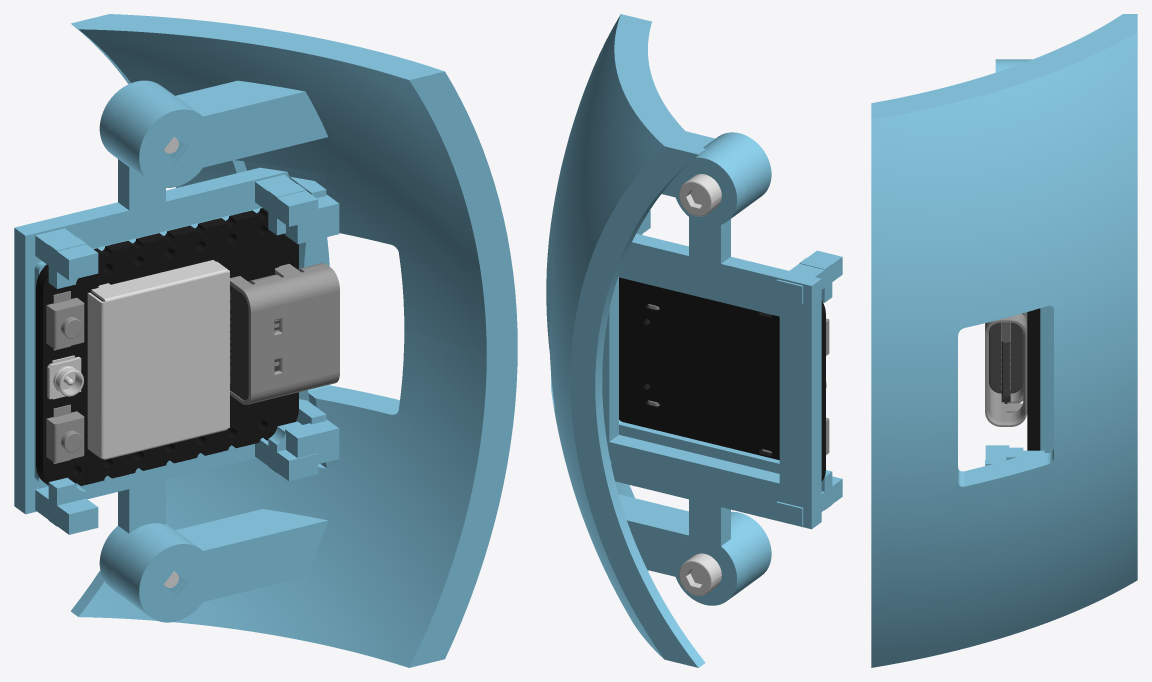
The model's file is charging_fit.glb.
3 views of the same model, side by side, from view 1: azimuth 30°, elevation 25°; view 2: azimuth 150°, elevation 25°; view 3: azimuth 270°, elevation 25° (orthographic). The views are drawn at different scales.
Visible parts, largest first — view 1: o1.3, o1.4, o1.1.4, o1.1.6, o1.1.1.1.19, o1.1.1.1.23, o1.1.5, o1.1.3, o1.1.2.1; view 2: o1.3, o1.4, o1.1.6, o1.2.1.1, o1.2.2.1; view 3: o1.3, o1.4, o1.1.1.1.19, o1.1.6, o1.1.1.1.23, o1.1.1.1.11.
Boxes of the visible parts, bbox=[...] form: o1.3: bbox=[70, 14, 517, 667]; o1.4: bbox=[14, 80, 339, 594]; o1.1.4: bbox=[87, 260, 229, 459]; o1.1.6: bbox=[36, 208, 298, 485]; o1.1.1.1.19: bbox=[230, 263, 339, 404]; o1.1.1.1.23: bbox=[230, 285, 248, 400]; o1.1.5: bbox=[46, 404, 84, 463]; o1.1.3: bbox=[46, 291, 84, 350]; o1.1.2.1: bbox=[47, 356, 83, 399]; o1.3: bbox=[546, 14, 771, 667]; o1.4: bbox=[602, 150, 842, 605]; o1.1.6: bbox=[619, 277, 825, 481]; o1.2.1.1: bbox=[679, 553, 721, 595]; o1.2.2.1: bbox=[679, 174, 721, 216]; o1.3: bbox=[871, 14, 1137, 667]; o1.4: bbox=[985, 306, 1053, 465]; o1.1.1.1.19: bbox=[985, 312, 1027, 426]; o1.1.6: bbox=[1027, 308, 1040, 450]; o1.1.1.1.23: bbox=[989, 313, 1023, 393]; o1.1.1.1.11: bbox=[1001, 322, 1010, 403].
Bounding box in the file's own units: 0.0326 × 0.046 × 0.0203.
